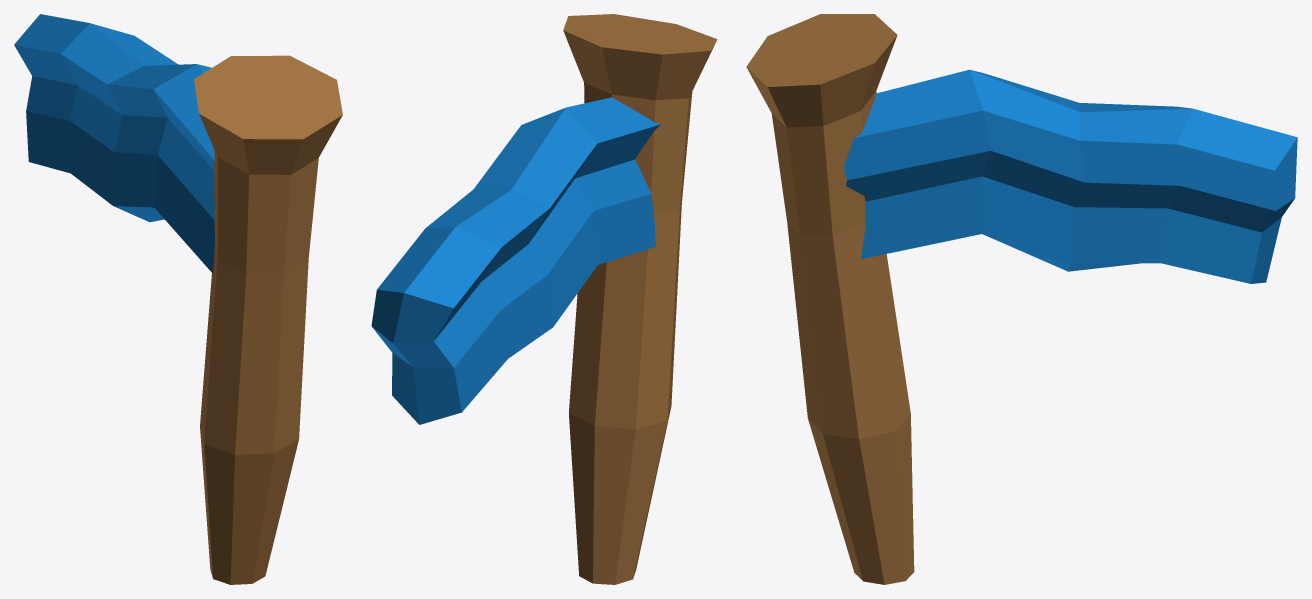
File: Flag.fbx
3 views of the same model, side by side, from view 1: azimuth 30°, elevation 25°; view 2: azimuth 150°, elevation 25°; view 3: azimuth 270°, elevation 25° (orthographic). The views are drawn at different scales.
Visible parts, largest first — view 1: Circle; view 2: Circle; view 3: Circle.
Boxes of the visible parts, bbox=[...] form: Circle: bbox=[14, 14, 342, 584]; Circle: bbox=[371, 14, 717, 584]; Circle: bbox=[746, 14, 1297, 584].
Bounding box in the file's own units: 52.61 × 187 × 174.
1 material, 1 textured.
